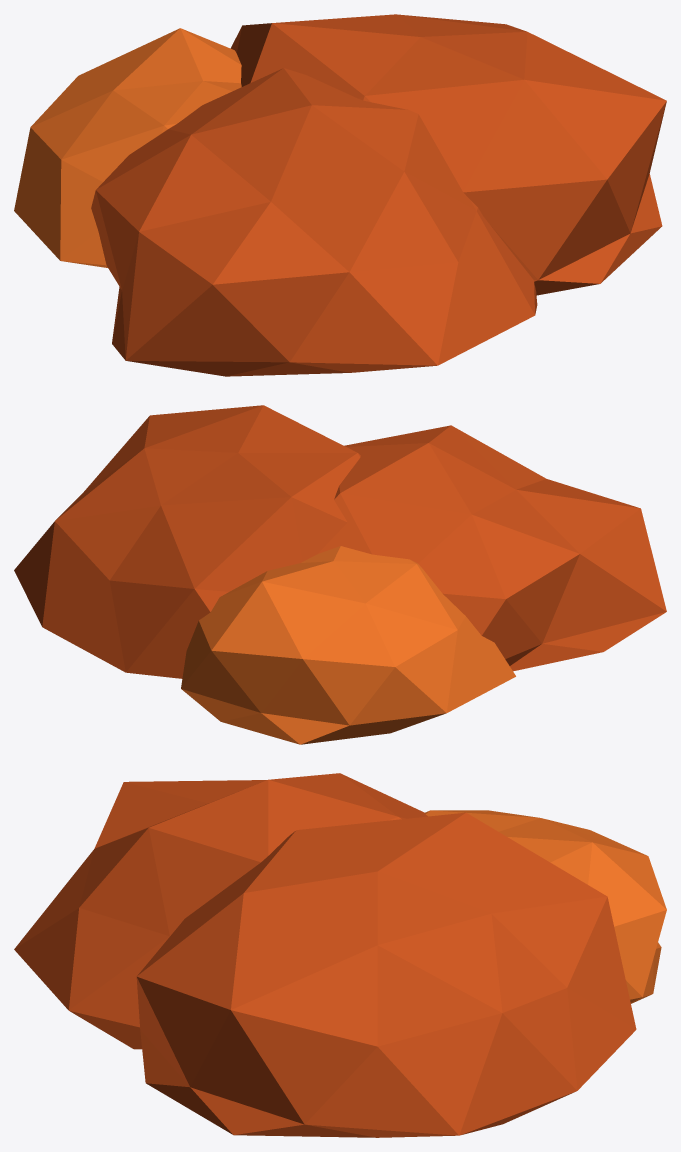
File: bush_autumn.glb
The picture shows the model from 3 angles, top to bottom: view 1: azimuth 30°, elevation 25°; view 2: azimuth 150°, elevation 25°; view 3: azimuth 270°, elevation 25°; orthographic projection. The views are drawn at different scales.
Parts seen in each view (by area): view 1: bush_autumn; view 2: bush_autumn; view 3: bush_autumn.
Boxes of the visible parts, left/top/right/bottom form: bush_autumn: left=14, top=14, right=666, bottom=376; bush_autumn: left=14, top=405, right=666, bottom=744; bush_autumn: left=14, top=773, right=666, bottom=1137.
Bounding box in the file's own units: 1.48 × 0.4407 × 1.36.
